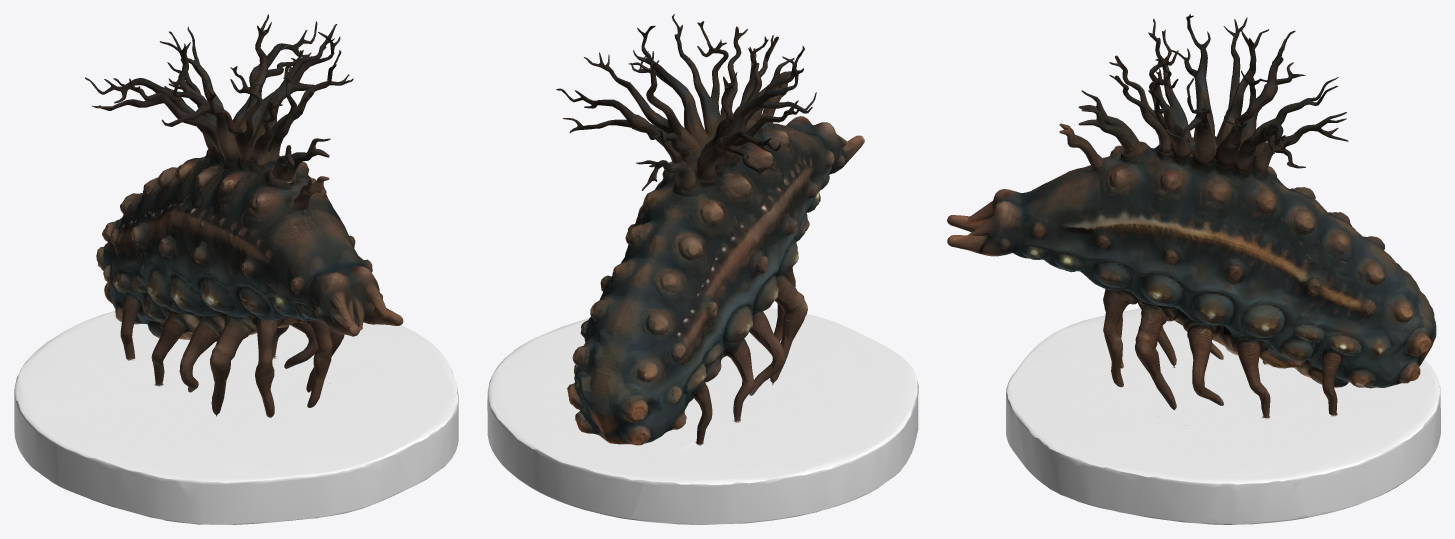
The model's file is bloom_sea_cucumber.glb.
3 renders of one model, left to right at view 1: azimuth 30°, elevation 25°; view 2: azimuth 150°, elevation 25°; view 3: azimuth 270°, elevation 25°, orthographic. The views are drawn at different scales.
Size of the model in its own units: 1.68 by 1.65 by 1.9.
1 material, 1 textured.
